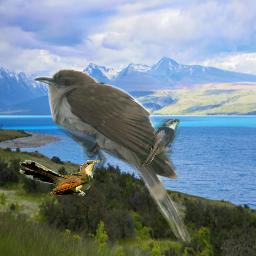Cuckoo: (34, 69, 191, 248), (19, 160, 100, 196), (139, 119, 180, 168)
